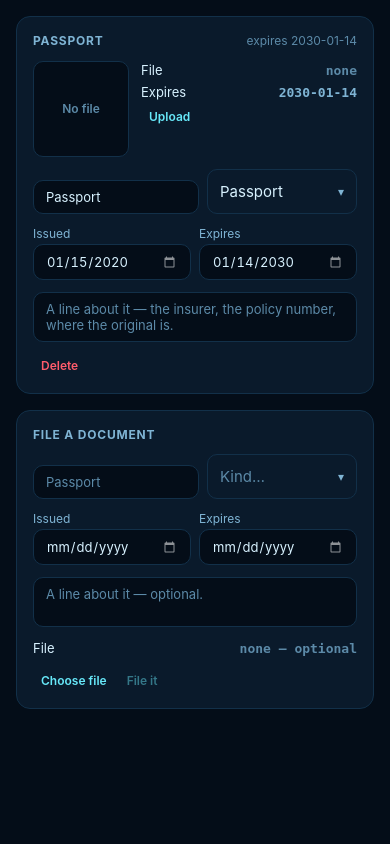
a filed document › says why an upload was refused, on the card
Click the button with aria-label "Upload a file for Passport". click: (170, 116)
box: [141,105,198,128]
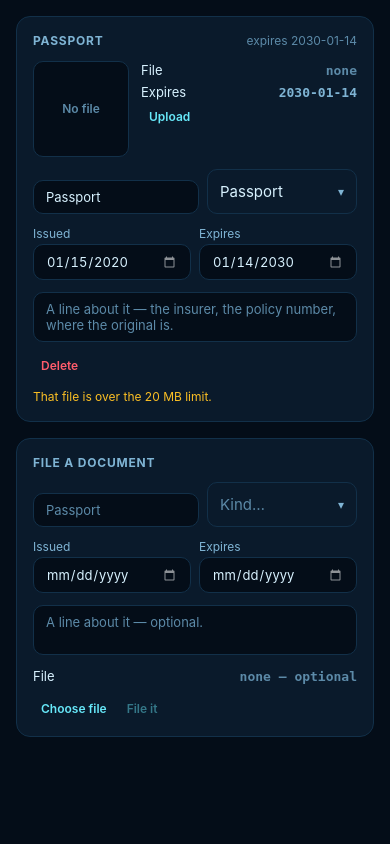
Expected: the text "That file is over the 20 MB limit." is shown, [33,389,212,404]
